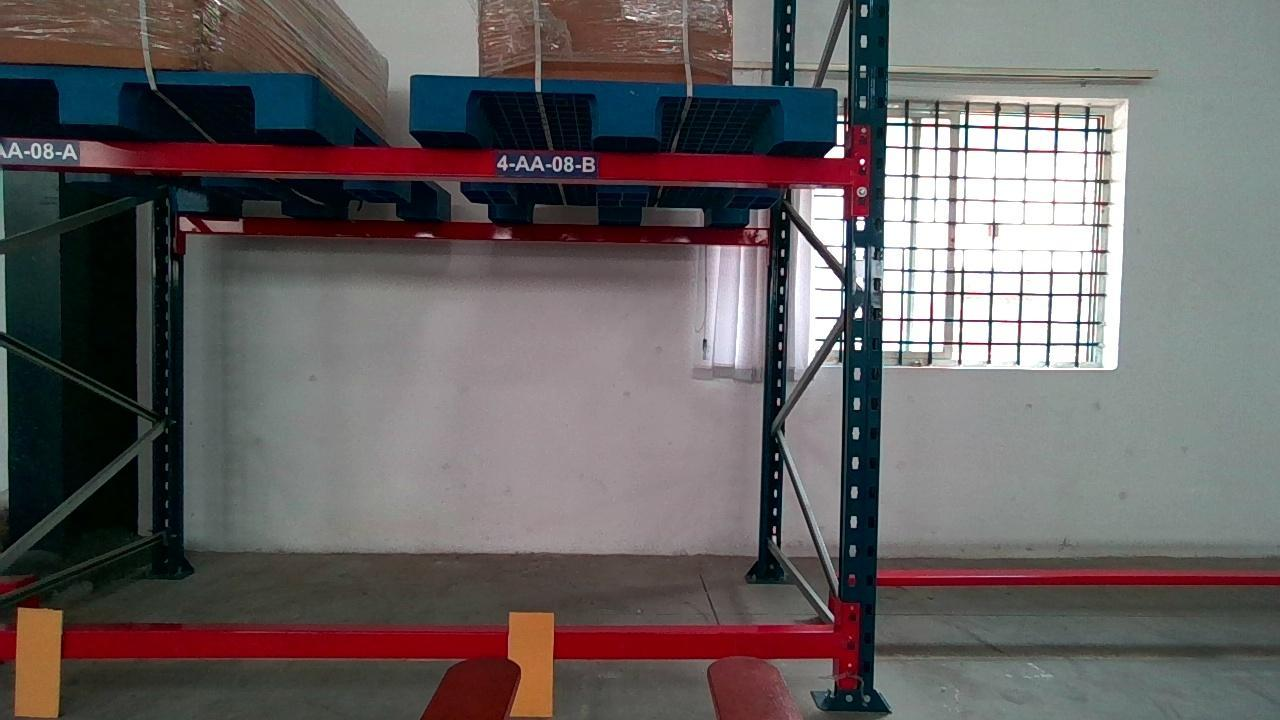h_rack: (7, 139, 860, 187), (0, 626, 837, 661)
orange_strip: (10, 605, 67, 720), (510, 610, 554, 716)
small_pallet: (415, 77, 833, 143), (0, 67, 311, 132)
